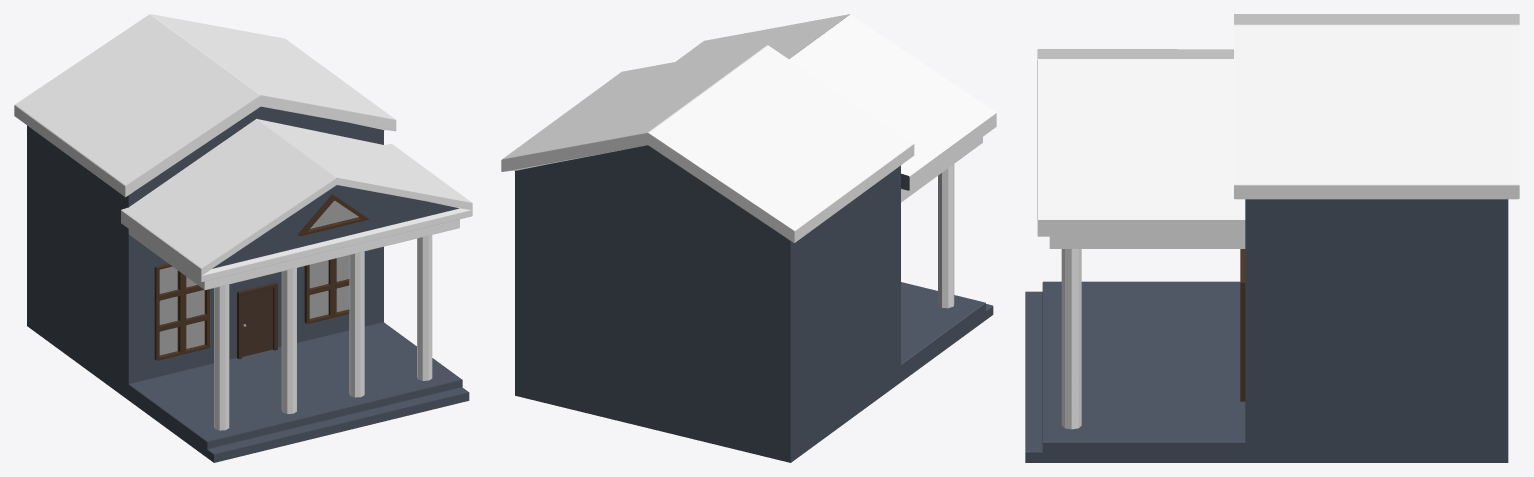
The model's file is blupHouse1.fbx.
3 renders of one model, left to right at view 1: azimuth 30°, elevation 25°; view 2: azimuth 150°, elevation 25°; view 3: azimuth 270°, elevation 25°, orthographic. The views are drawn at different scales.
Visible parts, largest first — view 1: Cube.006; view 2: Cube.006; view 3: Cube.006.
Part boxes in pixels (x1,y1,x2,y2): Cube.006: (14, 14, 472, 462); Cube.006: (501, 14, 996, 462); Cube.006: (1025, 14, 1519, 462).
Bounding box in the file's own units: 531 × 519 × 650.
